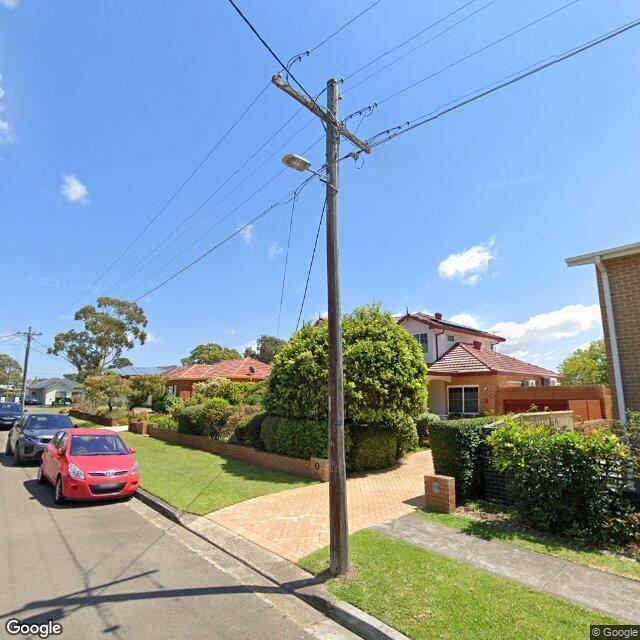crossarm: (271, 75, 372, 154), (16, 332, 42, 336)
streetlight: (281, 154, 328, 183)
timber-pole: (326, 78, 349, 577), (20, 326, 32, 412)
